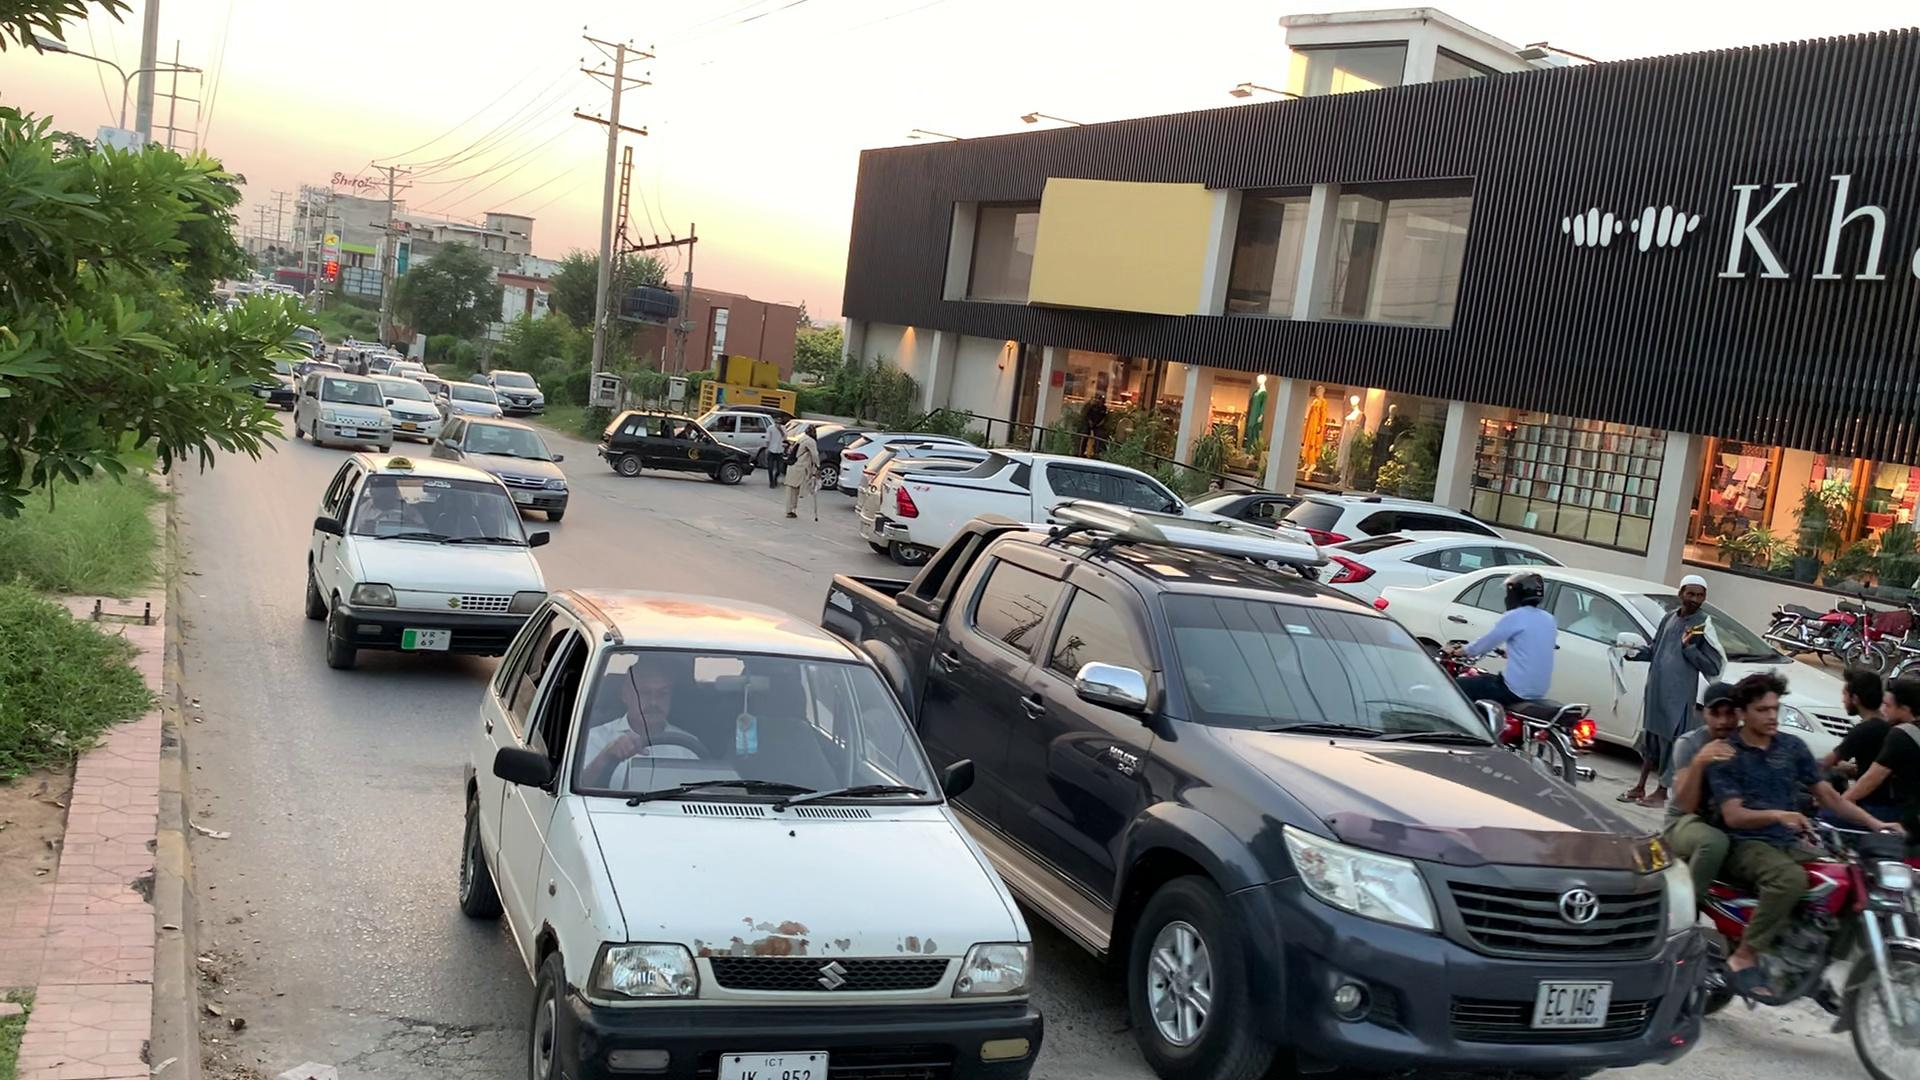windshield: (558, 620, 953, 810), (1147, 567, 1516, 746), (342, 467, 533, 550)
